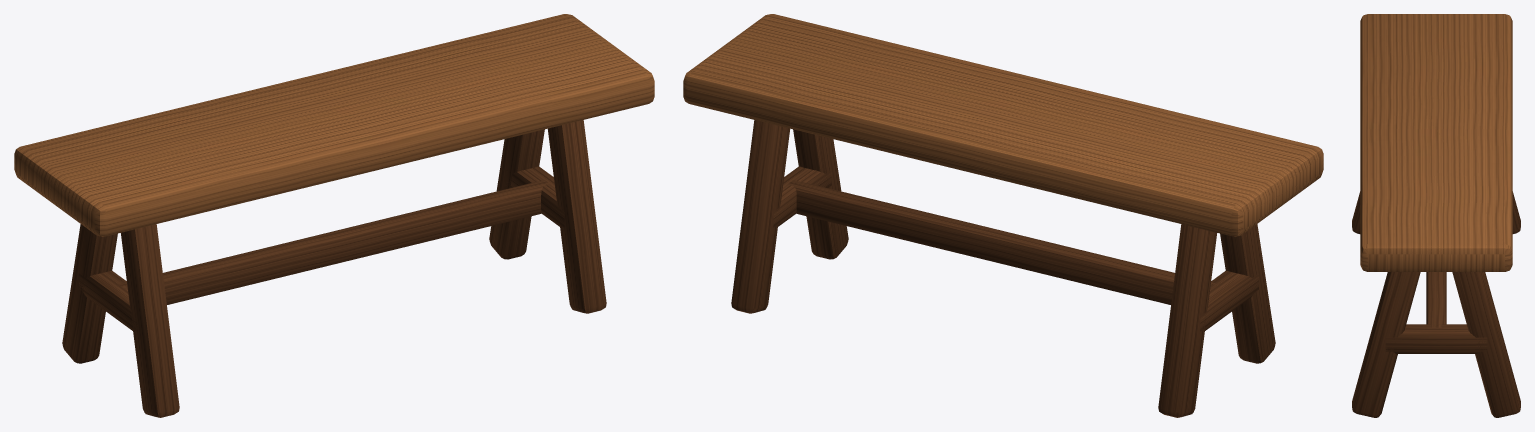
The model's file is tavern-bench.glb.
The picture shows the model from 3 angles, left to right: view 1: azimuth 30°, elevation 25°; view 2: azimuth 150°, elevation 25°; view 3: azimuth 270°, elevation 25°; orthographic projection. The views are drawn at different scales.
Parts seen in each view (by area): view 1: tavern_bench; view 2: tavern_bench; view 3: tavern_bench.
Part boxes in pixels (x1=…): tavern_bench: x1=14, y1=14, x2=654, y2=417; tavern_bench: x1=683, y1=14, x2=1323, y2=417; tavern_bench: x1=1352, y1=14, x2=1520, y2=417.
Size of the model in its own units: 1.1 by 0.4244 by 0.3324.
Materials: 2 (2 with a texture image).
